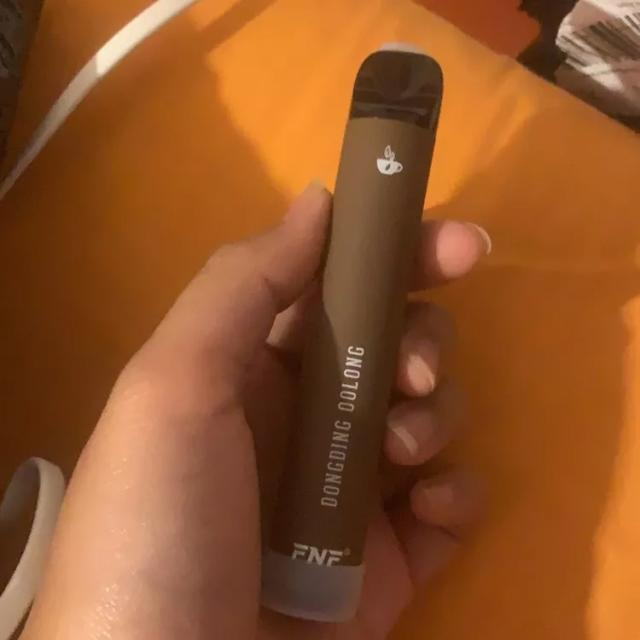Hazard: (259, 46, 444, 625)
